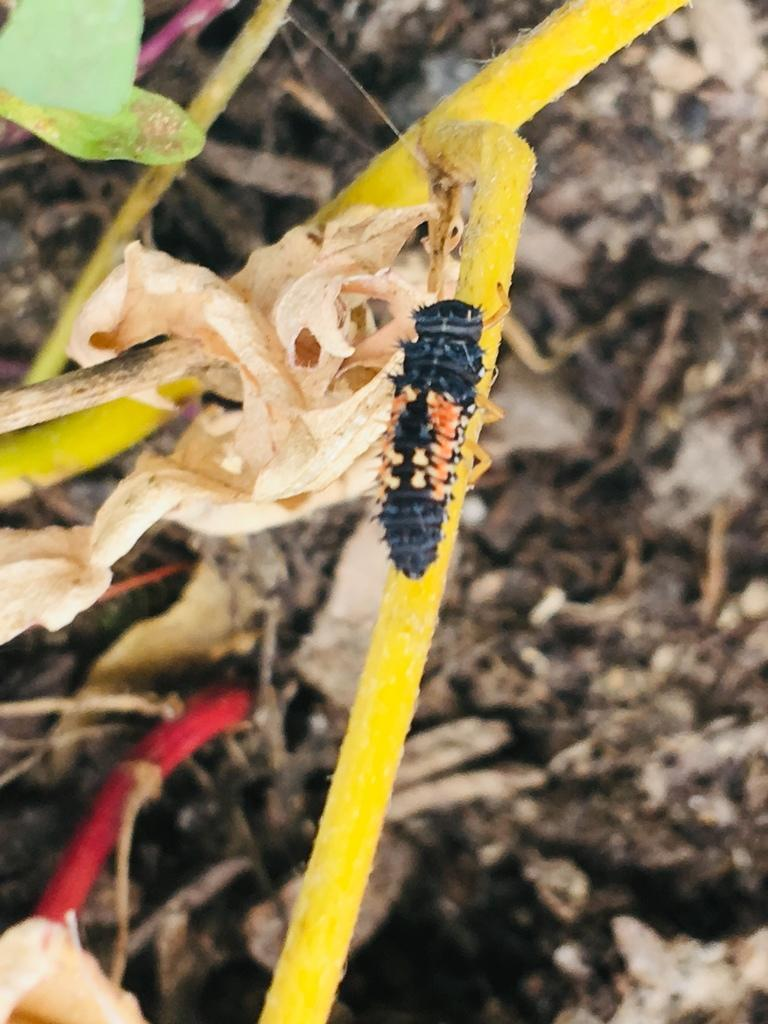ladybug: (367, 281, 517, 582)
